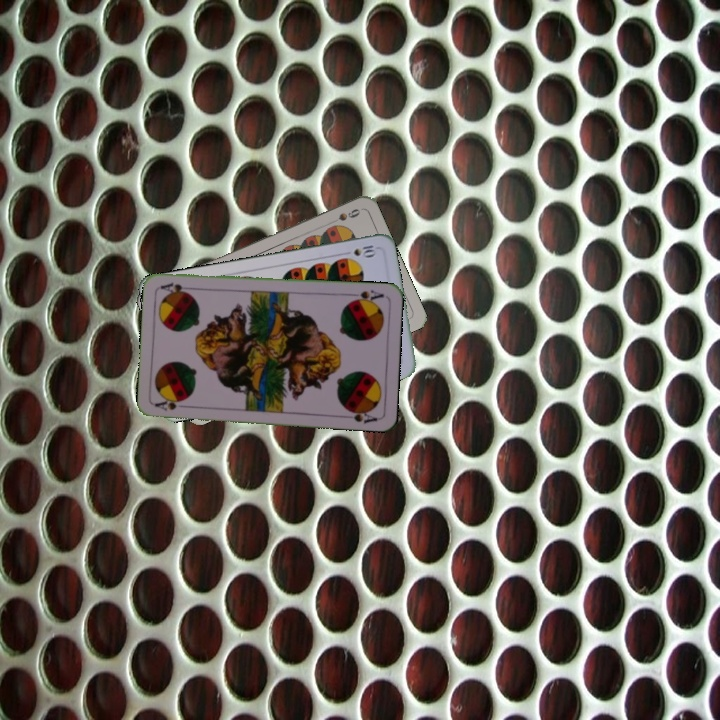S10: (339, 240, 379, 259)
S9: (324, 204, 363, 227)
SA: (346, 286, 387, 305), (152, 396, 192, 413)
